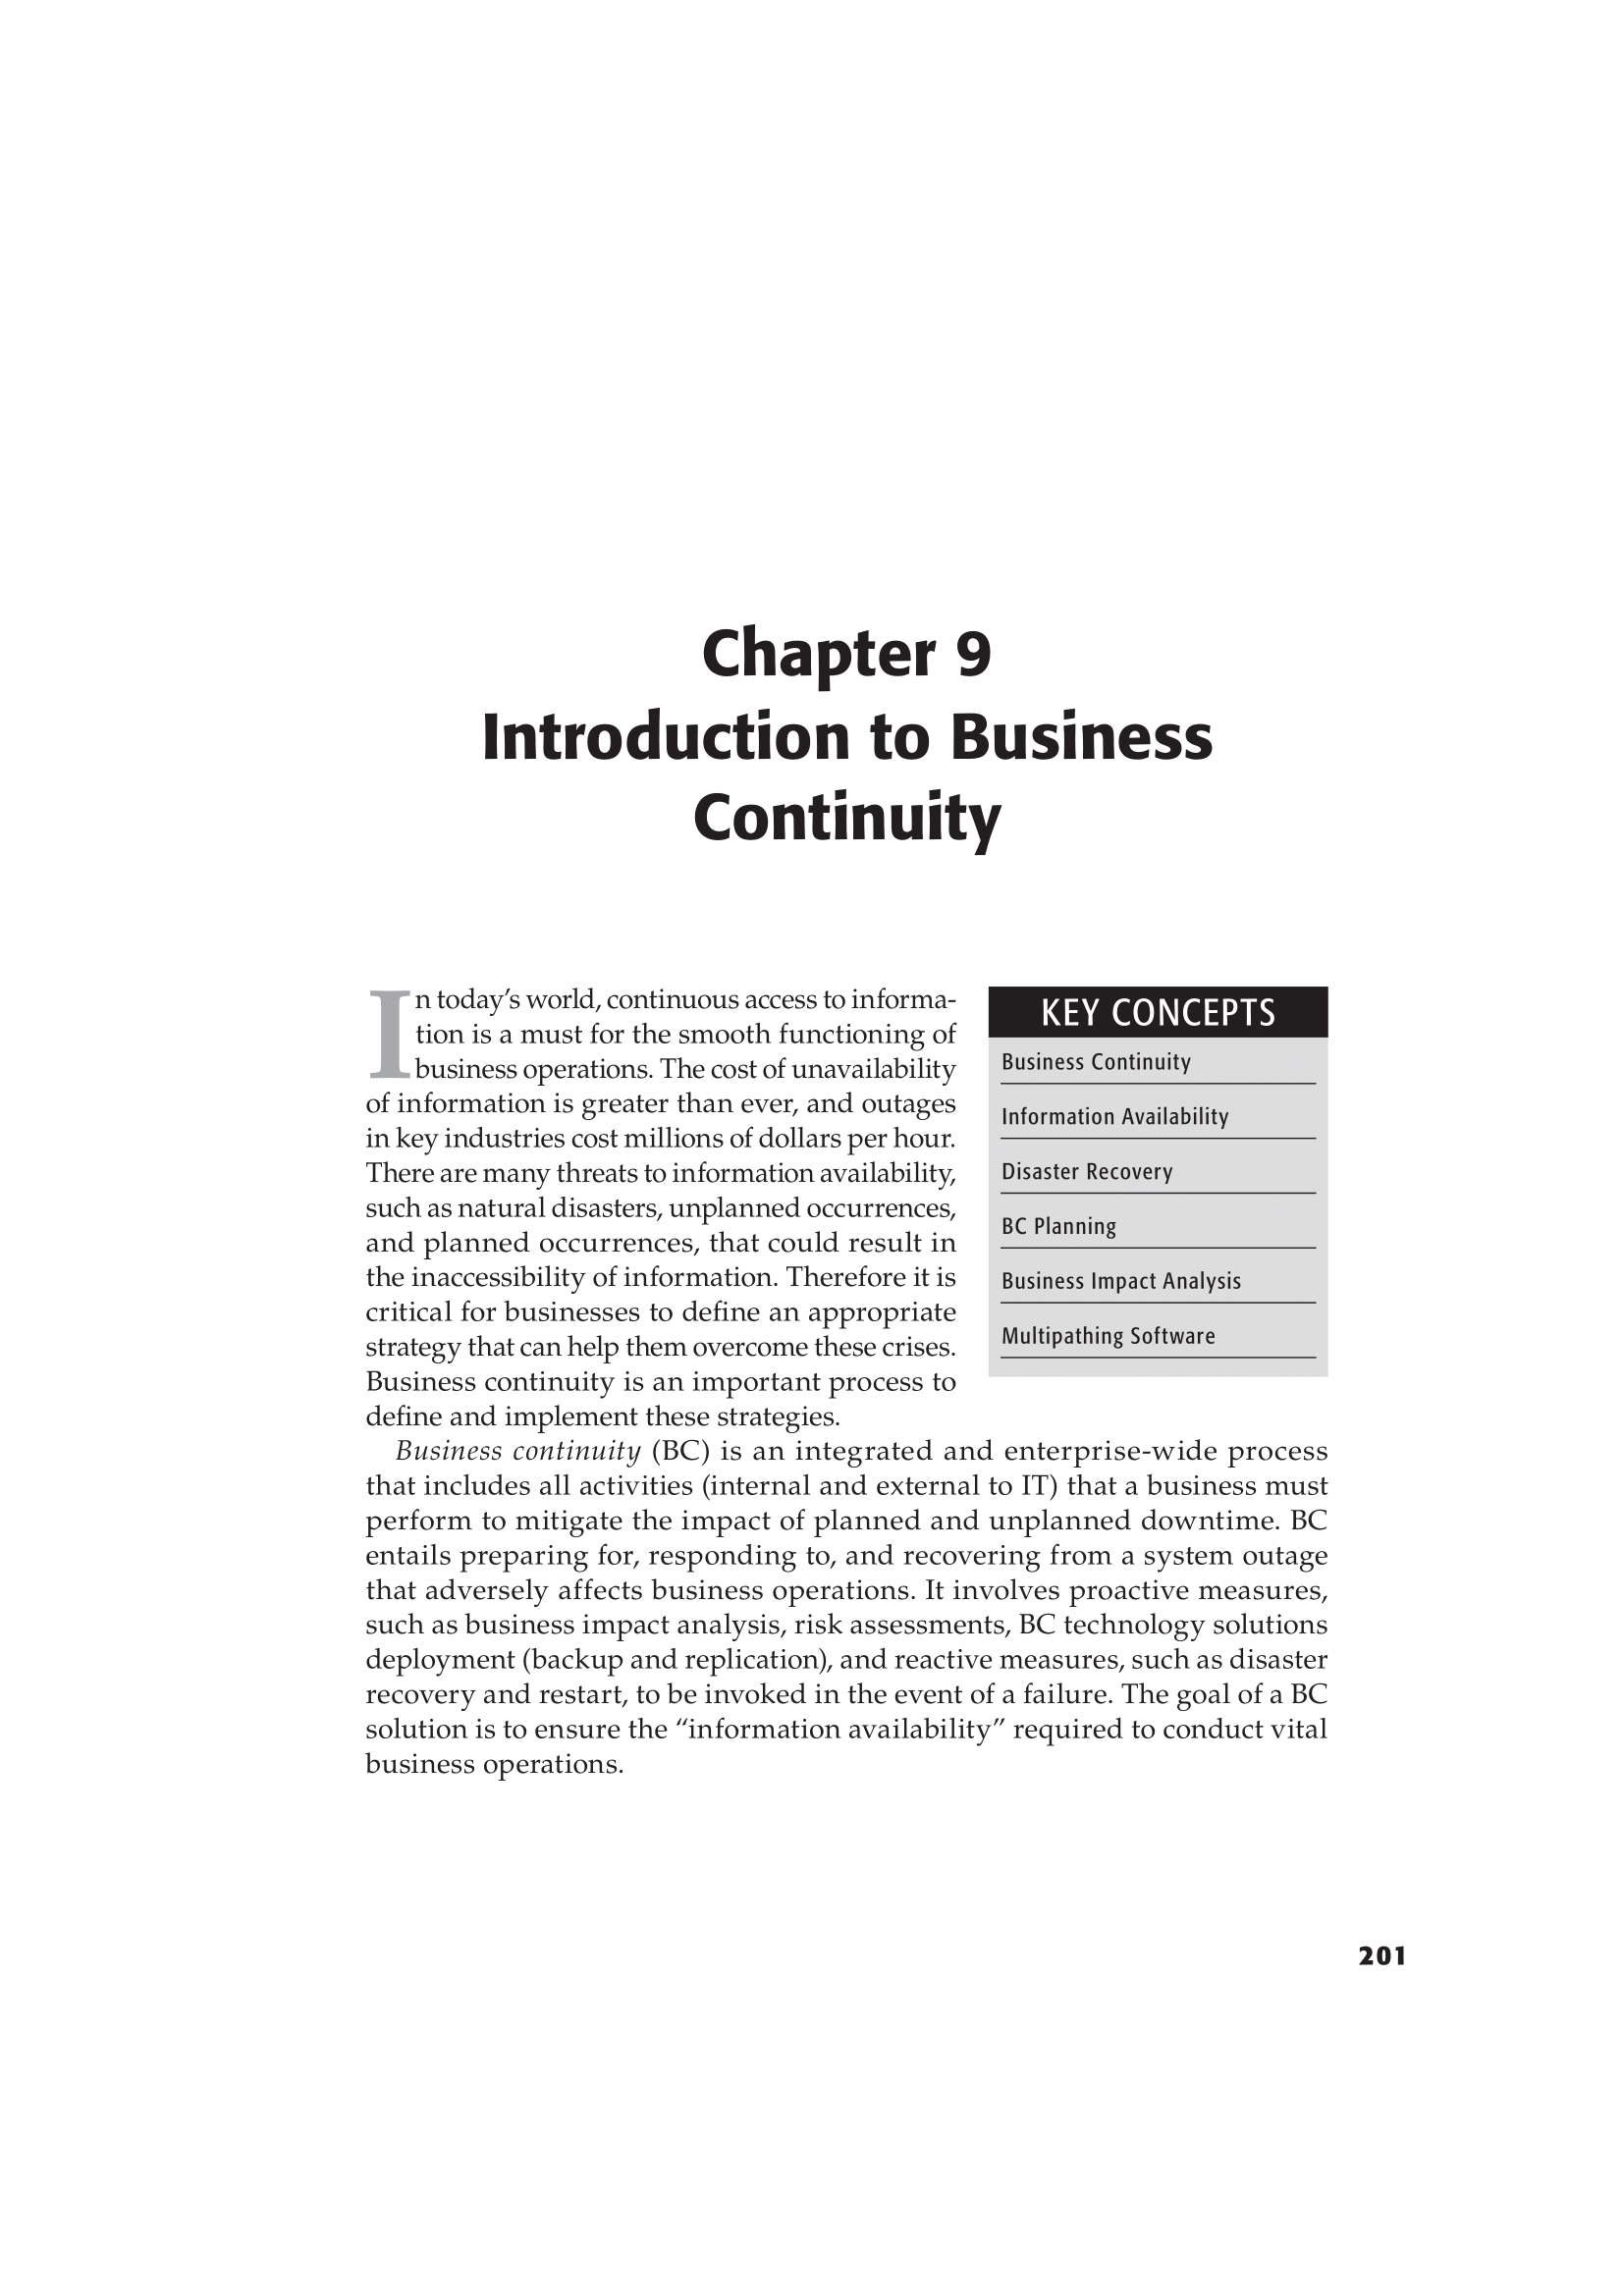Paragraph: (339, 1436, 1331, 1787), (344, 958, 968, 1429), (360, 695, 1337, 888), (557, 535, 1173, 692), (1024, 988, 1310, 1030), (991, 1044, 1249, 1080), (992, 1322, 1251, 1357), (998, 1264, 1256, 1299), (998, 1155, 1256, 1190), (991, 1099, 1249, 1134), (996, 1211, 1252, 1246)
